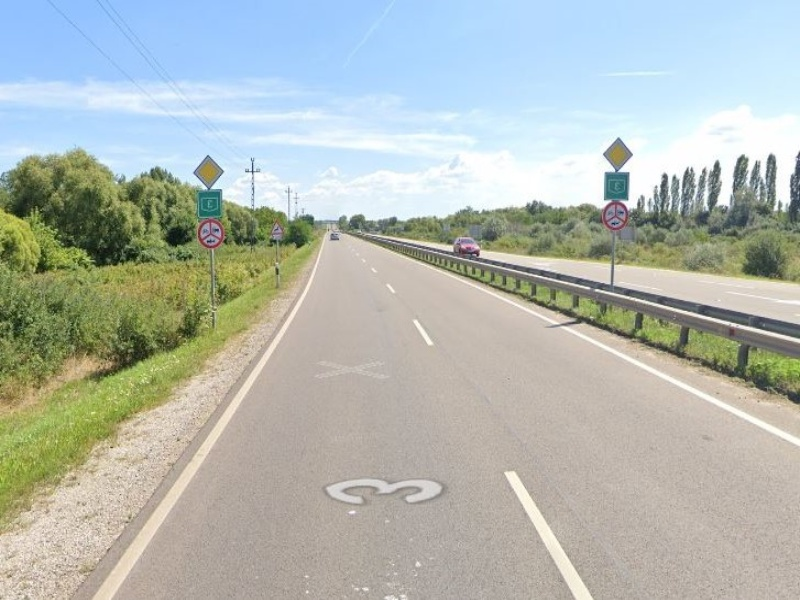fout: (600, 137, 635, 171), (193, 155, 222, 188)
